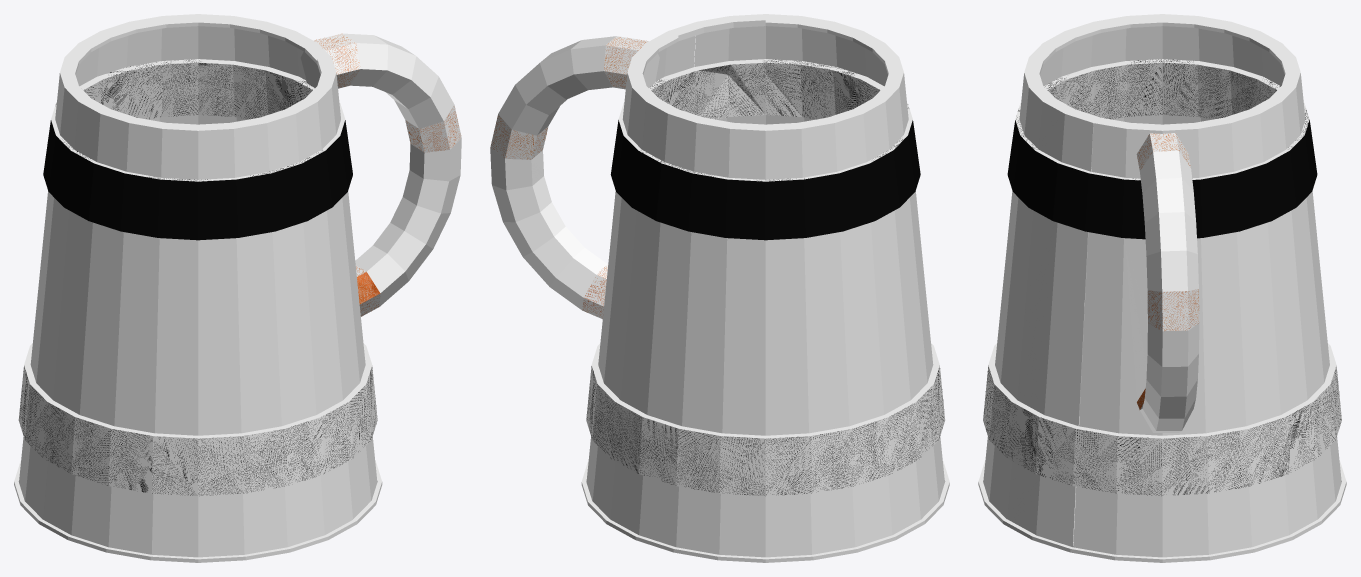
3 renders of one model, left to right at view 1: azimuth 30°, elevation 25°; view 2: azimuth 150°, elevation 25°; view 3: azimuth 270°, elevation 25°, orthographic.
Visible parts, largest first — view 1: mesh1_mesh1-geometry, mesh2_mesh2-geometry; view 2: mesh1_mesh1-geometry, mesh2_mesh2-geometry; view 3: mesh1_mesh1-geometry, mesh2_mesh2-geometry.
Part boxes in pixels (<box>): mesh1_mesh1-geometry: <box>14,14,461,562</box>; mesh2_mesh2-geometry: <box>18,343,377,496</box>; mesh1_mesh1-geometry: <box>490,14,949,562</box>; mesh2_mesh2-geometry: <box>586,343,945,496</box>; mesh1_mesh1-geometry: <box>978,14,1346,562</box>; mesh2_mesh2-geometry: <box>983,303,1341,496</box>.
Bounding box in the file's own units: 0.6407 × 0.5972 × 0.4826.
